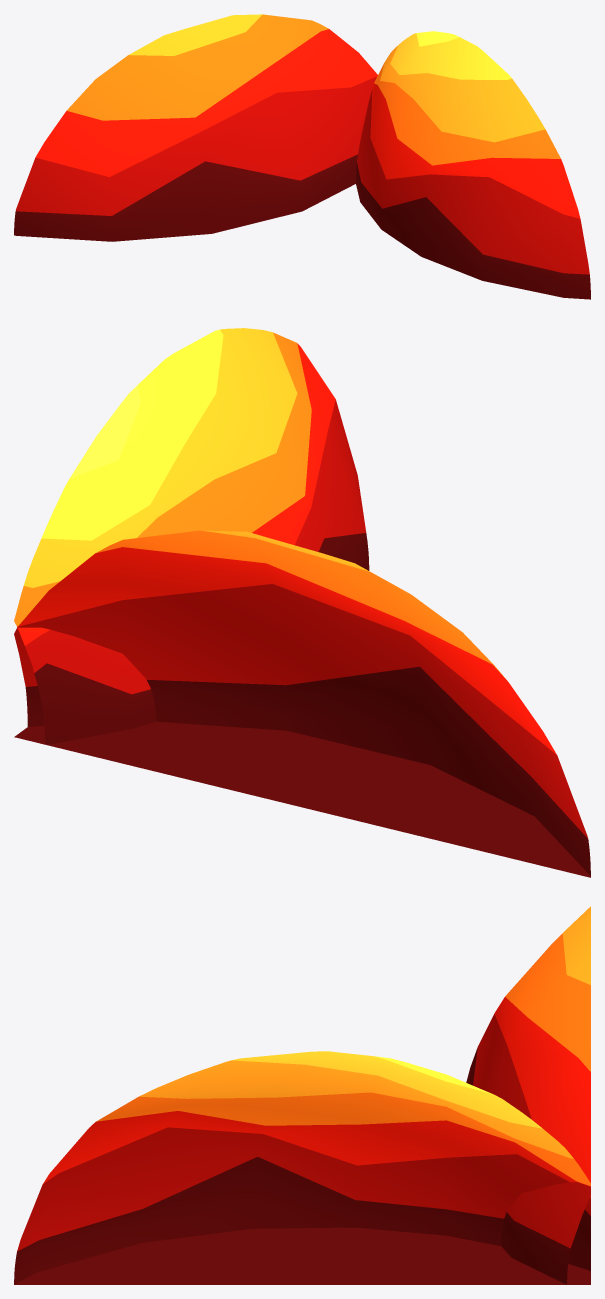
File: shot_charge_b227.glb
3 renders of one model, top to bottom at view 1: azimuth 30°, elevation 25°; view 2: azimuth 150°, elevation 25°; view 3: azimuth 270°, elevation 25°, orthographic. The views are drawn at different scales.
Parts seen in each view (by area): view 1: charge_twin6_b_fire_shot_charge_b227, charge_twin6_a_fire_shot_charge_b227; view 2: charge_twin6_b_fire_shot_charge_b227, charge_twin6_a_fire_shot_charge_b227; view 3: charge_twin6_a_fire_shot_charge_b227, charge_twin6_b_fire_shot_charge_b227.
Part boxes in pixels (<box>): charge_twin6_b_fire_shot_charge_b227: <box>14,14,377,241</box>; charge_twin6_a_fire_shot_charge_b227: <box>356,31,590,299</box>; charge_twin6_b_fire_shot_charge_b227: <box>14,530,590,877</box>; charge_twin6_a_fire_shot_charge_b227: <box>14,328,369,744</box>; charge_twin6_a_fire_shot_charge_b227: <box>14,1051,590,1284</box>; charge_twin6_b_fire_shot_charge_b227: <box>466,906,590,1284</box>.
Size of the model in its own units: 8.46 by 3.75 by 8.39.
